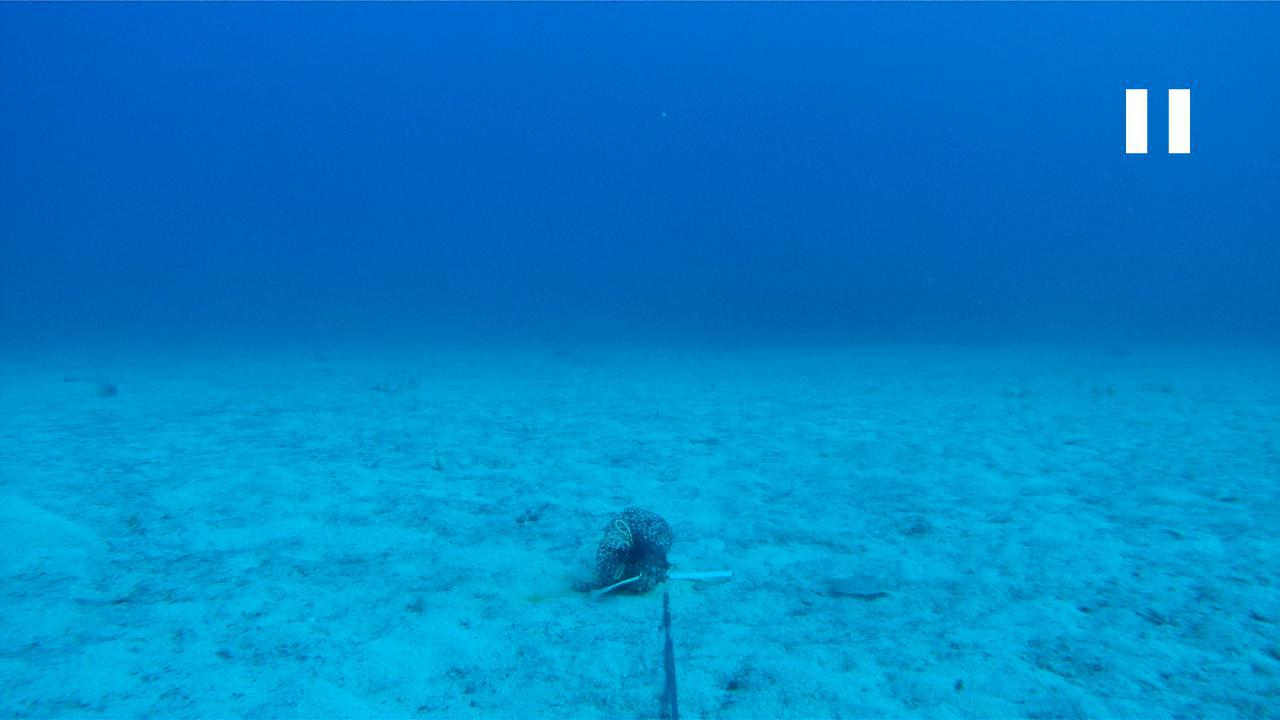bothus: (825, 569, 889, 600)
